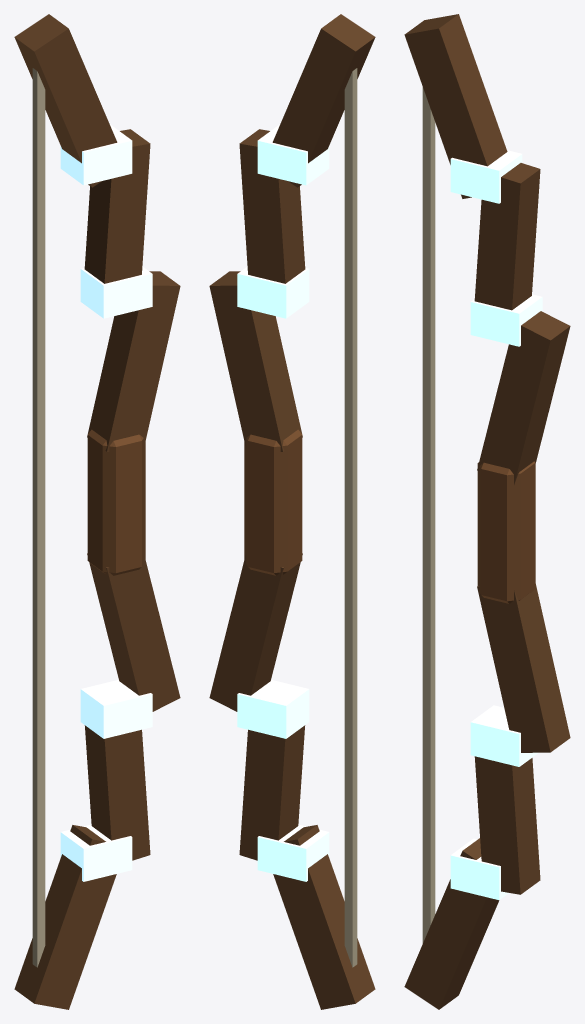
The model's file is runed_longbow.glb.
3 renders of one model, left to right at view 1: azimuth 30°, elevation 25°; view 2: azimuth 150°, elevation 25°; view 3: azimuth 330°, elevation 25°, orthographic.
Parts seen in each view (by area): view 1: runed_longbow; view 2: runed_longbow; view 3: runed_longbow.
Boxes of the visible parts, left/top/right/bottom form: runed_longbow: left=14, top=14, right=180, bottom=1009; runed_longbow: left=209, top=14, right=375, bottom=1009; runed_longbow: left=404, top=14, right=570, bottom=1009.
Bounding box in the file's own units: 0.2549 × 1.63 × 0.075.
